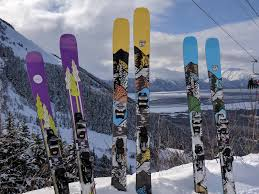skis: (25, 33, 98, 194), (182, 35, 237, 188), (109, 8, 153, 194)
